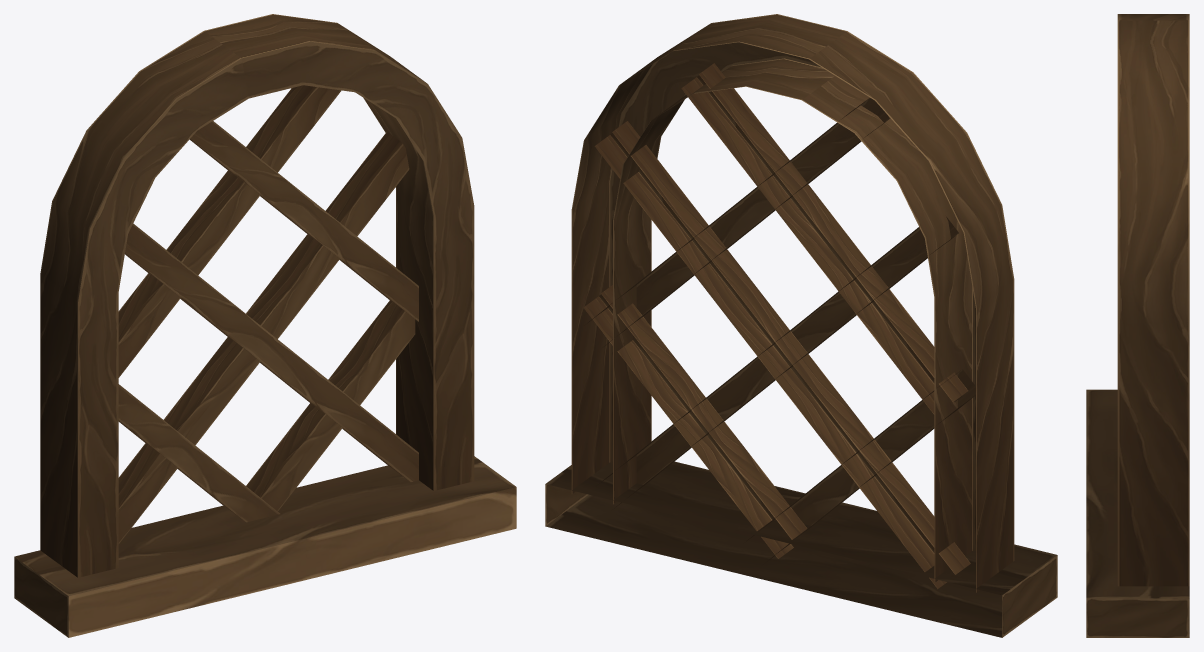
File: Window_1_3.FBX
3 views of the same model, side by side, from view 1: azimuth 30°, elevation 25°; view 2: azimuth 150°, elevation 25°; view 3: azimuth 270°, elevation 25° (orthographic). The views are drawn at different scales.
Visible parts, largest first — view 1: Window_1_3; view 2: Window_1_3; view 3: Window_1_3.
Boxes of the visible parts, <box> form: Window_1_3: <box>14,14,516,637</box>; Window_1_3: <box>545,14,1057,637</box>; Window_1_3: <box>1086,14,1189,637</box>.
Bounding box in the file's own units: 996 × 1107 × 209.
